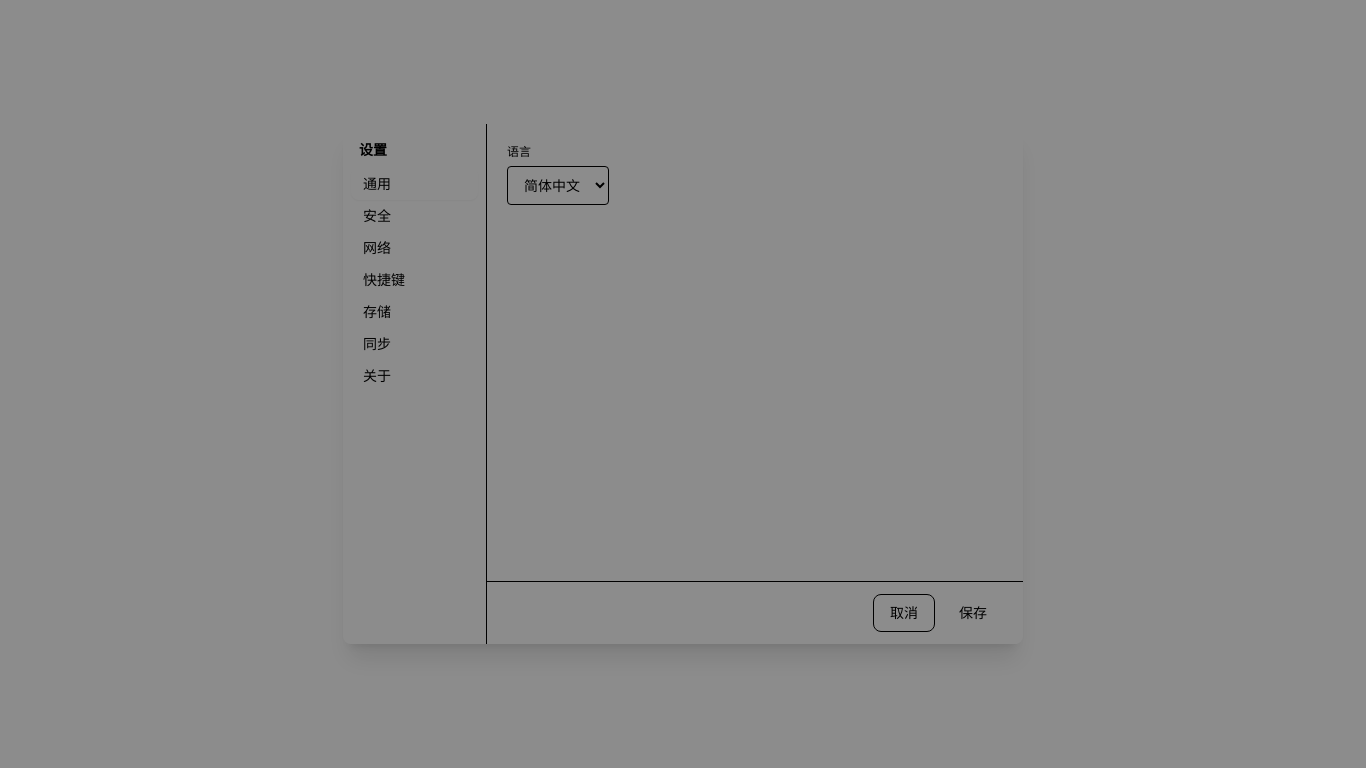
Scenario: SettingsDialog › switches categories and renders the sync pane with loaded config
Click the button "同步": [414, 344] box [351, 328, 478, 360]
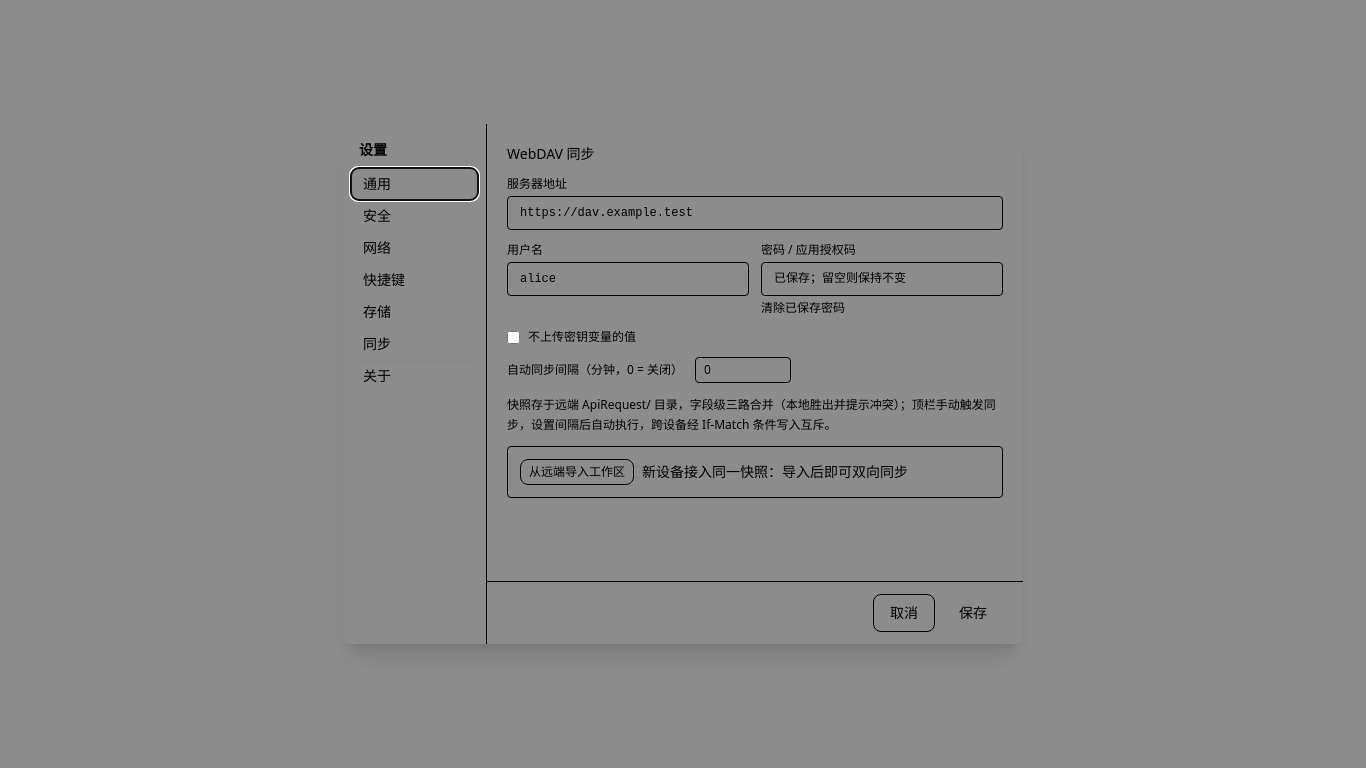
expect the field showing "https://dav.example.test" below "服务器地址" is shown: met, box [507, 196, 1003, 230]
expect the field showing "alice" below "用户名" is shown: met, box [507, 262, 749, 296]
